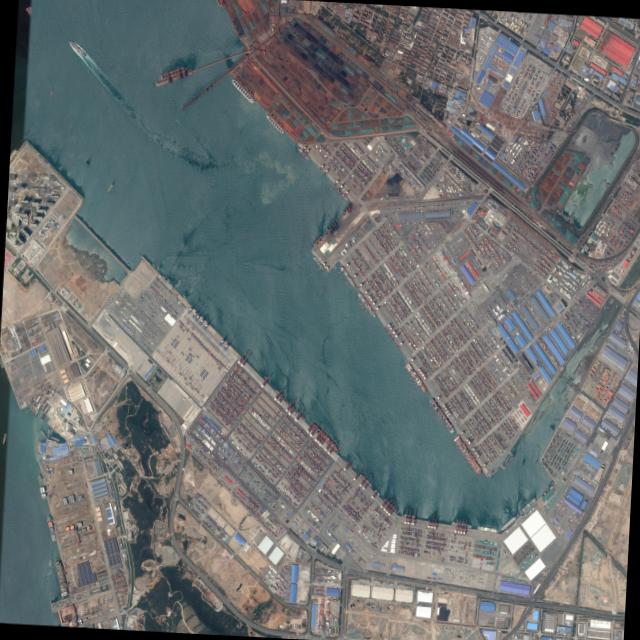ship: (453, 435, 482, 475), (428, 397, 455, 433), (309, 422, 338, 452), (230, 77, 255, 103), (405, 363, 427, 392), (54, 559, 68, 596), (357, 291, 376, 317), (157, 65, 187, 81), (265, 113, 284, 134), (339, 265, 355, 287), (518, 496, 536, 514), (67, 39, 85, 56), (36, 473, 46, 499), (45, 514, 55, 540), (500, 515, 516, 531), (382, 497, 398, 513), (357, 472, 372, 487), (324, 217, 337, 232), (297, 146, 309, 160), (451, 520, 471, 528), (312, 255, 323, 269), (476, 525, 497, 532), (337, 189, 348, 201), (273, 387, 284, 398), (312, 234, 322, 245), (488, 467, 498, 477), (296, 410, 305, 420), (343, 459, 352, 468), (285, 400, 294, 409), (342, 203, 350, 212), (401, 513, 415, 518), (106, 183, 112, 193), (50, 435, 59, 441), (40, 429, 46, 438), (1, 432, 5, 444), (373, 488, 379, 495), (0, 359, 3, 368), (49, 89, 52, 97), (47, 428, 49, 437), (161, 274, 165, 278), (166, 277, 170, 281), (165, 279, 169, 282), (169, 282, 172, 286), (177, 278, 180, 282), (173, 282, 176, 286), (176, 284, 179, 287)
